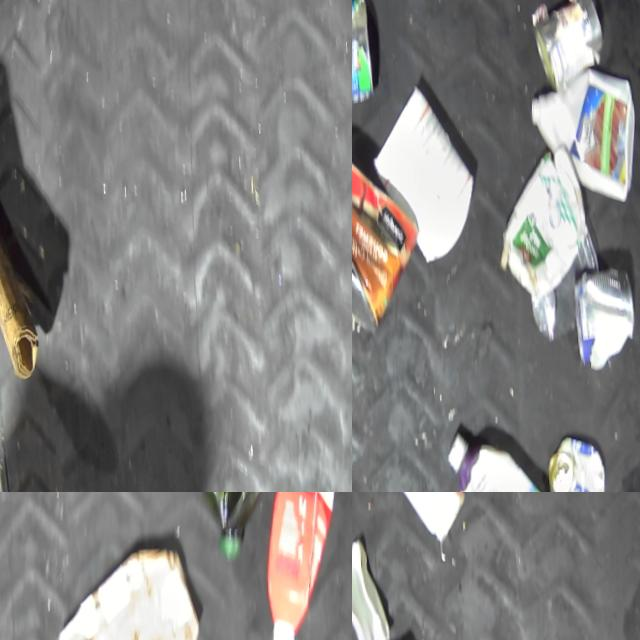can: (352, 134, 420, 332), (567, 259, 639, 365), (531, 0, 601, 88), (352, 0, 384, 108)
milk_jug: (529, 54, 640, 207)
non_white_jug: (261, 492, 346, 640), (445, 423, 560, 492), (189, 492, 272, 557)
